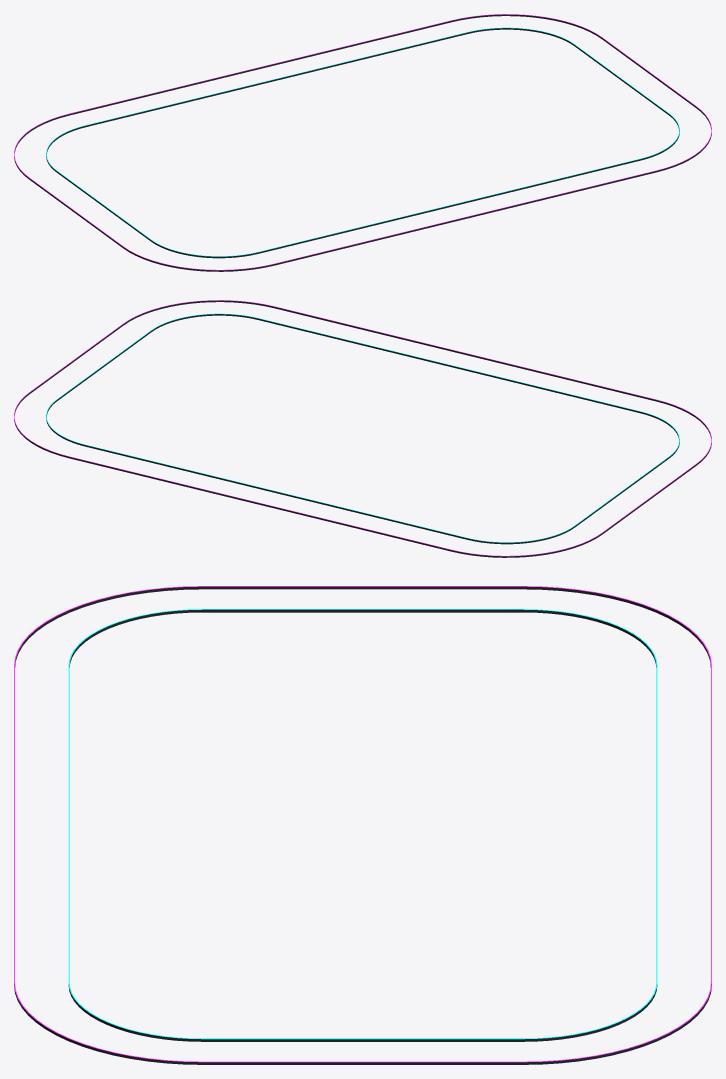
Rendered from SM_Track_Barriers.fbx.
3 views of the same model, one above another, from view 1: azimuth 30°, elevation 25°; view 2: azimuth 150°, elevation 25°; view 3: azimuth 270°, elevation 25° (orthographic). The views are drawn at different scales.
Visible parts, largest first — view 1: SM_Track_Barriers; view 2: SM_Track_Barriers; view 3: SM_Track_Barriers.
Boxes of the visible parts, box(x1,y1,x2,y2) form: SM_Track_Barriers: box(14, 14, 711, 271); SM_Track_Barriers: box(14, 300, 711, 557); SM_Track_Barriers: box(14, 586, 711, 1064).
Size of the model in its own units: 42080 by 120 by 26080.
